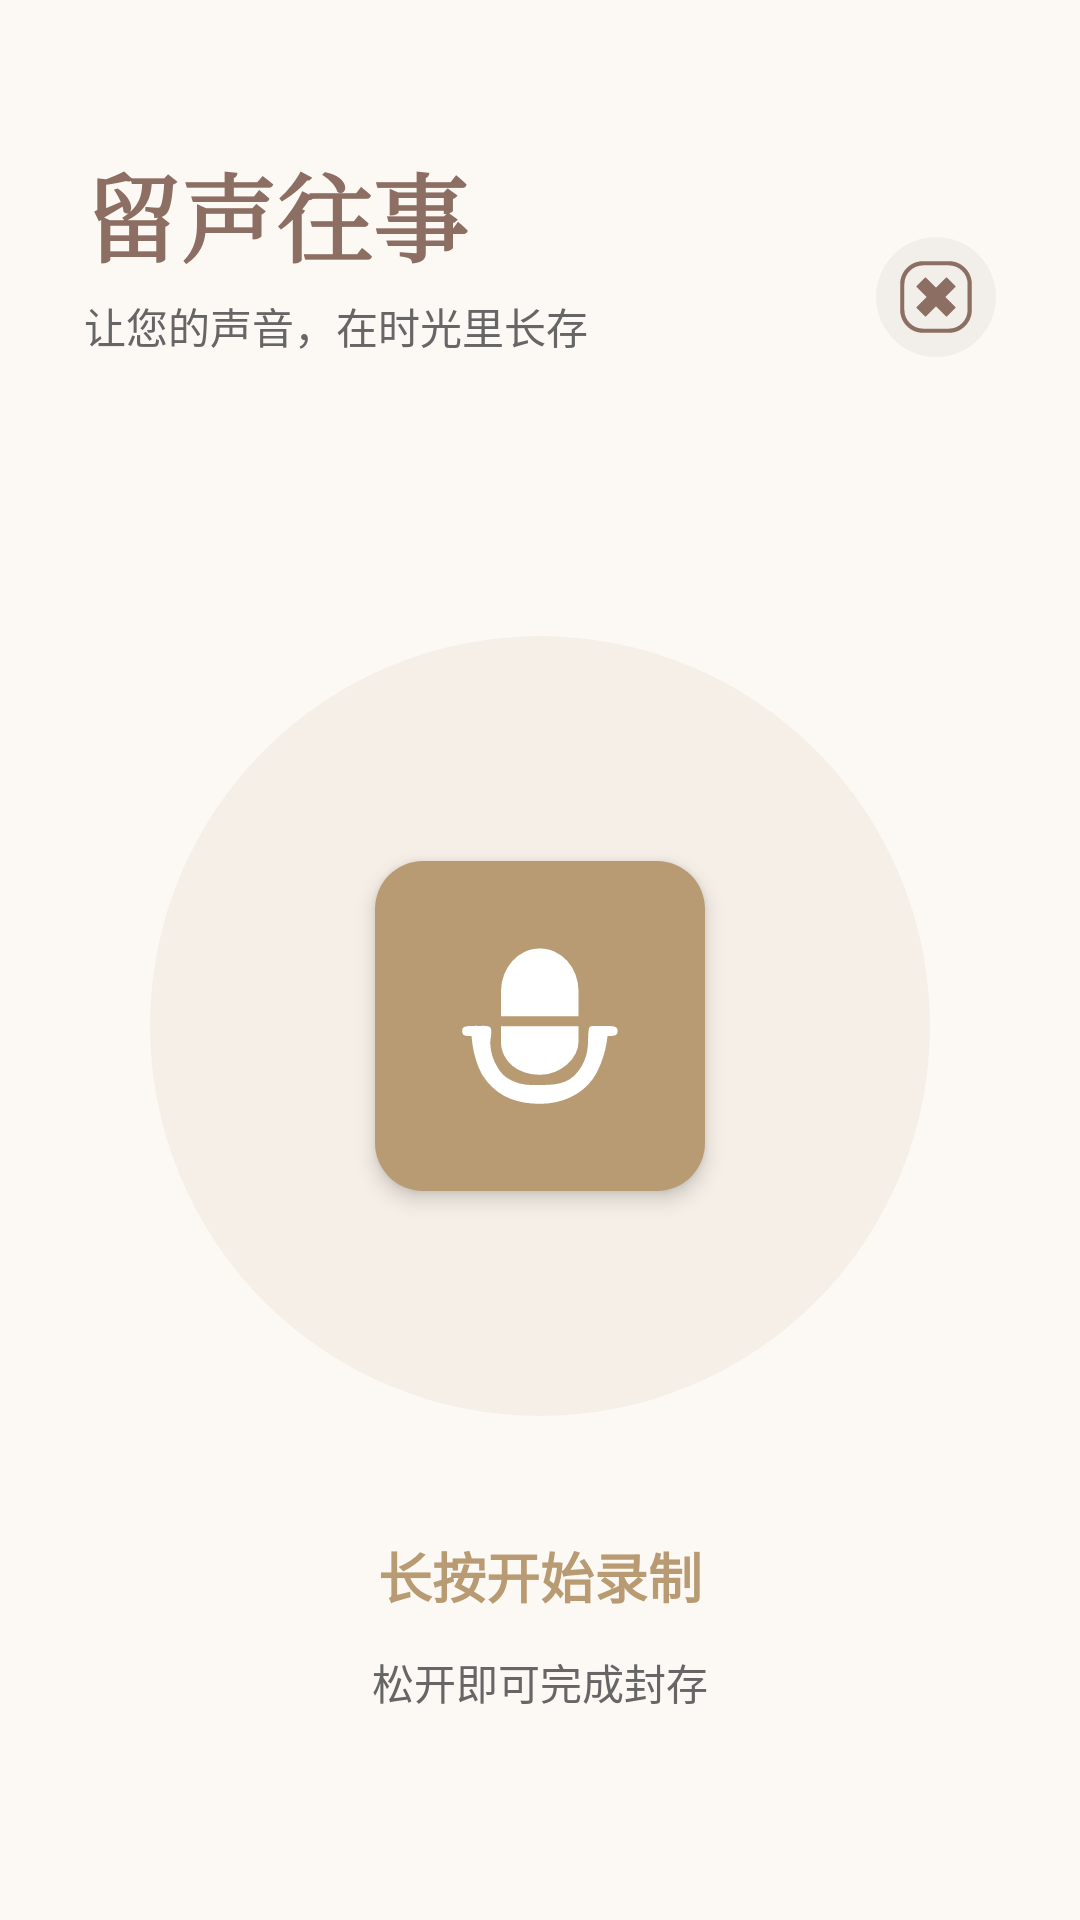

Where to tap for icons on this 1080w x 1920h app screen, as (x=x, y=y):
close: (x=936, y=297)
mic: (x=540, y=1026)
